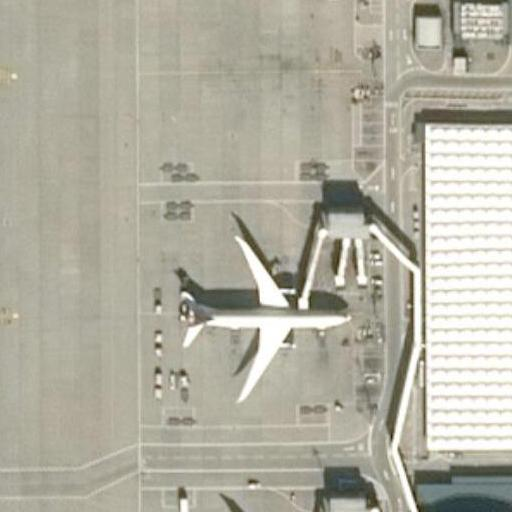Aircraft: (170, 232, 347, 392), (153, 506, 359, 512)
